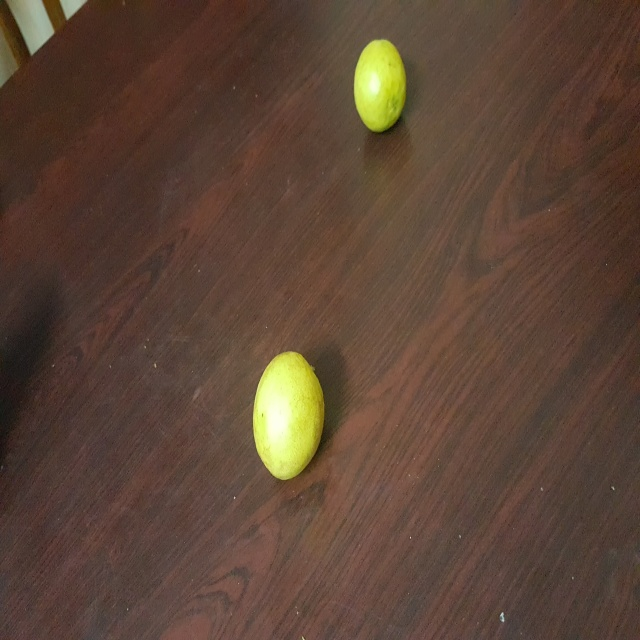lemon: (248, 350, 332, 477), (347, 31, 417, 131)
